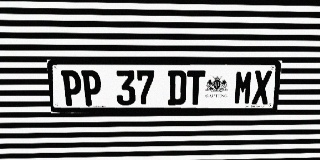3: (116, 70, 135, 105)
7: (135, 70, 154, 105)
D: (168, 70, 186, 105)
M: (233, 70, 254, 105)
P: (61, 70, 82, 106), (81, 70, 102, 106)
T: (186, 70, 206, 105)
X: (251, 70, 272, 104)
